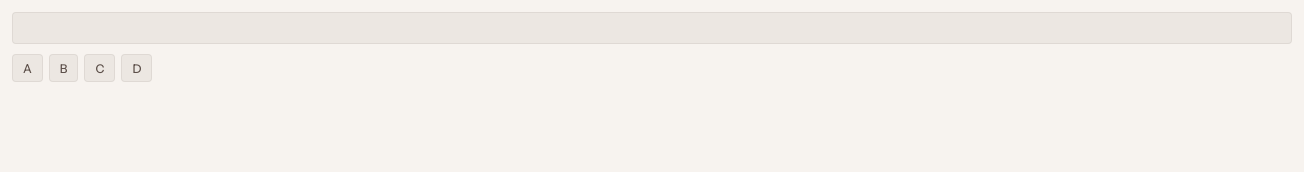
Test case: ChipSelect › searchable › фильтрация сужает список без учёта регистра
In the search field: (652, 28) x1=12 y1=12 x2=1292 y2=44, type "C"
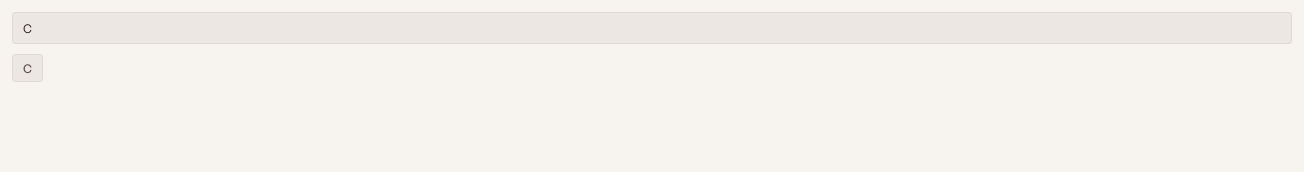
Expected: the button "C" is shown, x1=12 y1=54 x2=43 y2=82
Expected: the button "A" is gone
